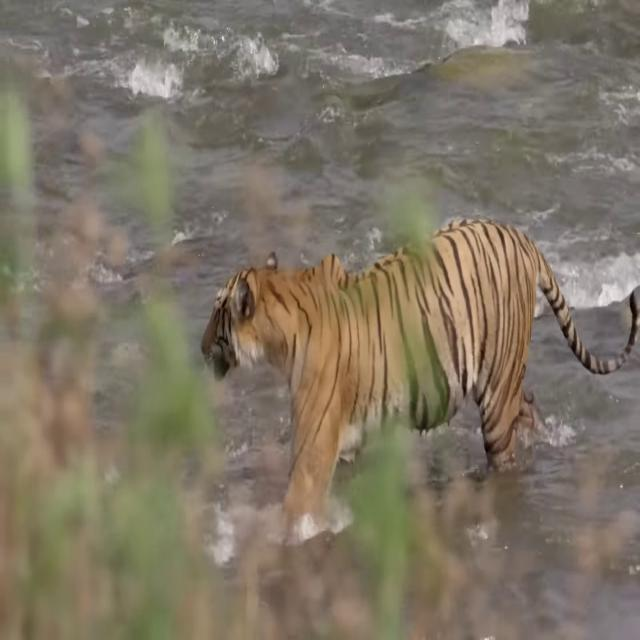tiger: (202, 219, 638, 522)
